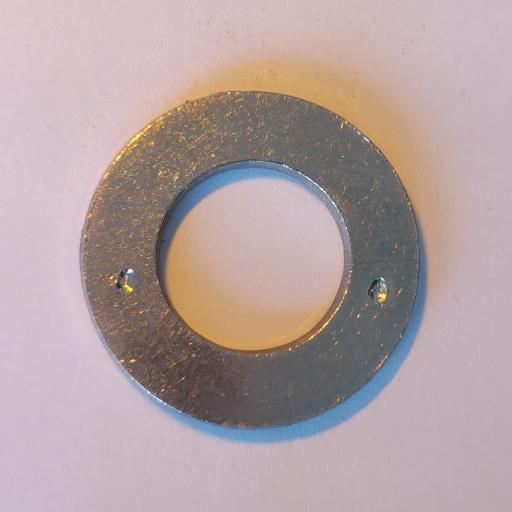circular_cavity: (367, 276, 390, 306), (116, 268, 136, 294)
